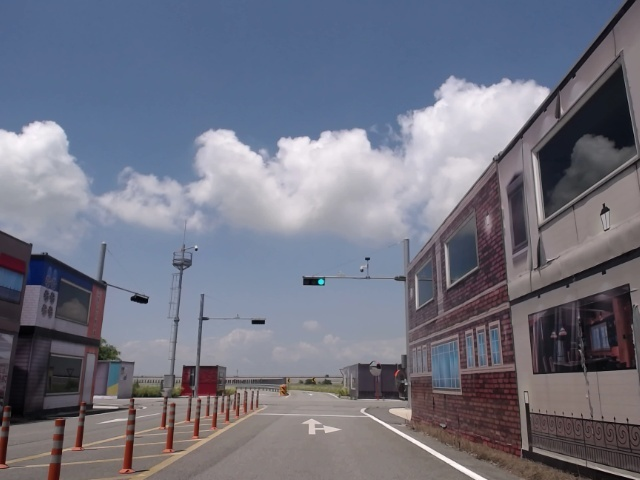green_3: (304, 276, 325, 286)
